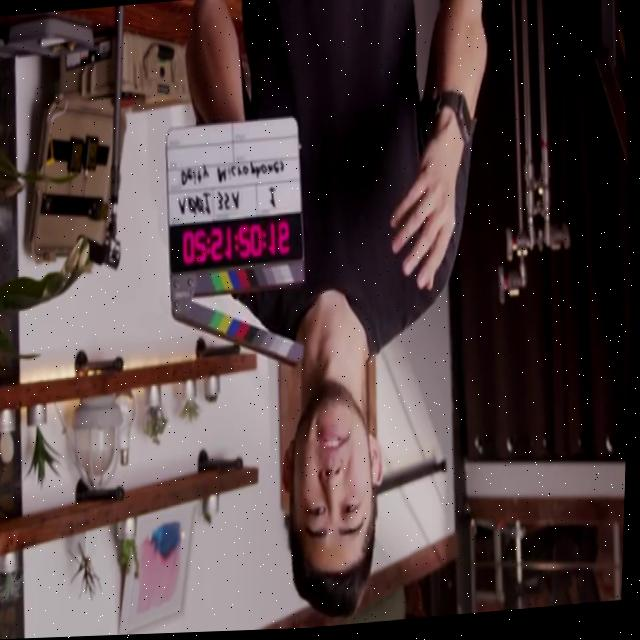Clapperboard: (167, 118, 306, 365)
